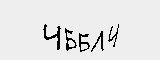Б: (62, 27, 78, 53), (78, 31, 90, 54)
Л: (92, 29, 107, 54)
Ч: (39, 21, 61, 53), (107, 22, 121, 48)
